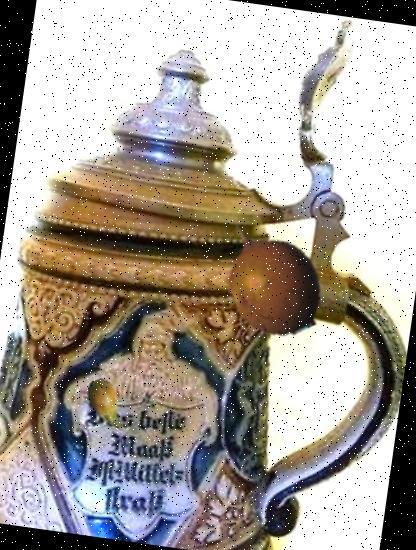Cactus: (74, 374, 136, 435)
Granadilla: (199, 205, 341, 348)
